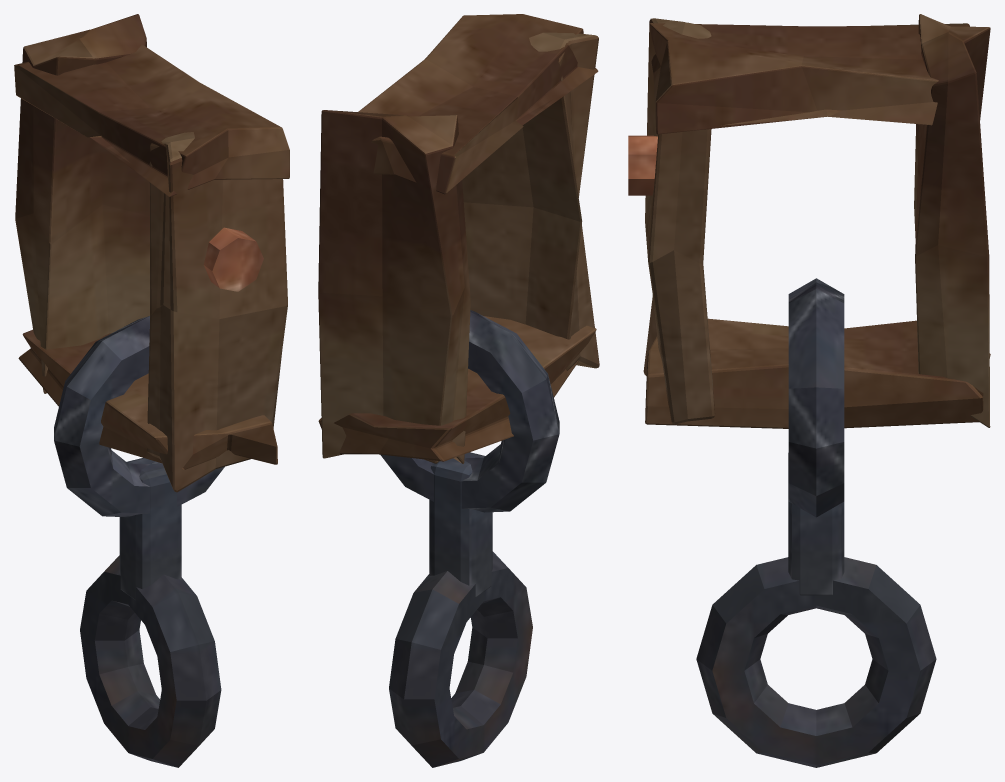
Rendered from lantern_hip_hook.glb.
3 views of the same model, side by side, from view 1: azimuth 30°, elevation 25°; view 2: azimuth 150°, elevation 25°; view 3: azimuth 270°, elevation 25° (orthographic). The views are drawn at different scales.
Parts seen in each view (by area): view 1: model; view 2: model; view 3: model.
Boxes of the visible parts, x1,y1,x2,y2 form: model: (14,14,289,767); model: (318,14,599,767); model: (628,14,990,767).
Size of the model in its own units: 0.06 by 0.2017 by 0.0905.
Materials: 3 (3 with a texture image).
